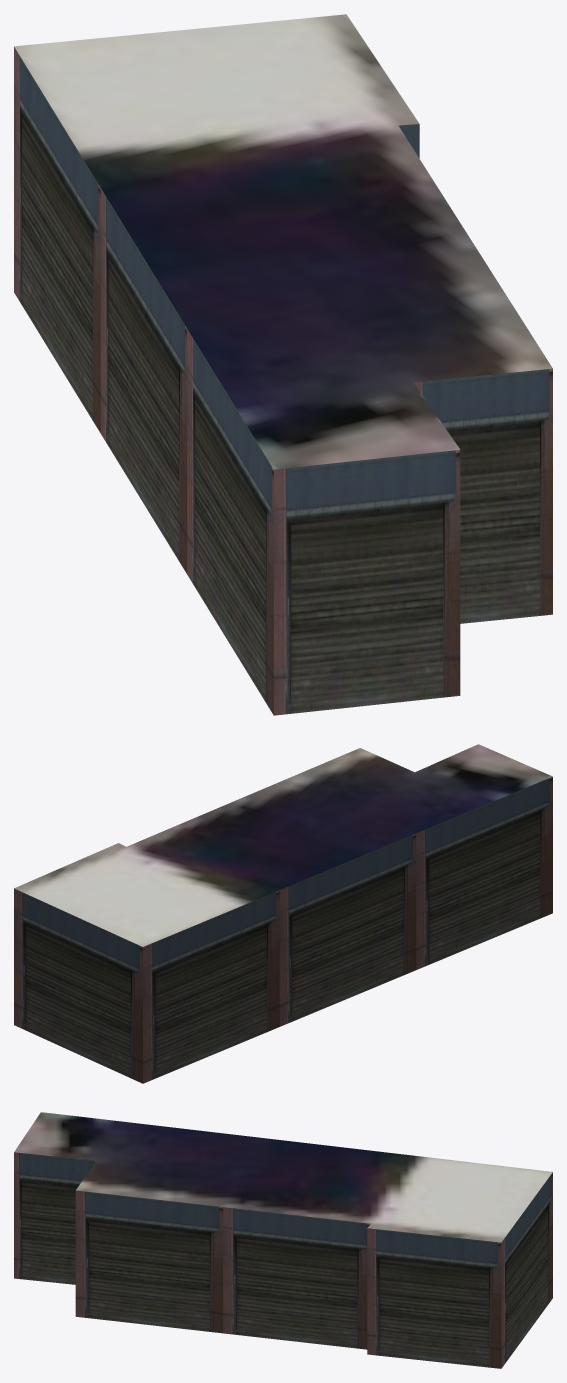
3 views of the same model, one above another, from view 1: azimuth 30°, elevation 25°; view 2: azimuth 150°, elevation 25°; view 3: azimuth 270°, elevation 25° (orthographic). The views are drawn at different scales.
Visible parts, largest first — view 1: SketchUp (×4); view 2: SketchUp (×3); view 3: SketchUp (×5).
Boxes of the visible parts, bbox=[...] form: SketchUp (×4): bbox=[14, 14, 552, 715]; SketchUp (×3): bbox=[14, 744, 552, 1083]; SketchUp (×5): bbox=[14, 1112, 552, 1368].
Bounding box in the file's own units: 10.4 × 18.14 × 4.69.
2 materials, 2 textured.
